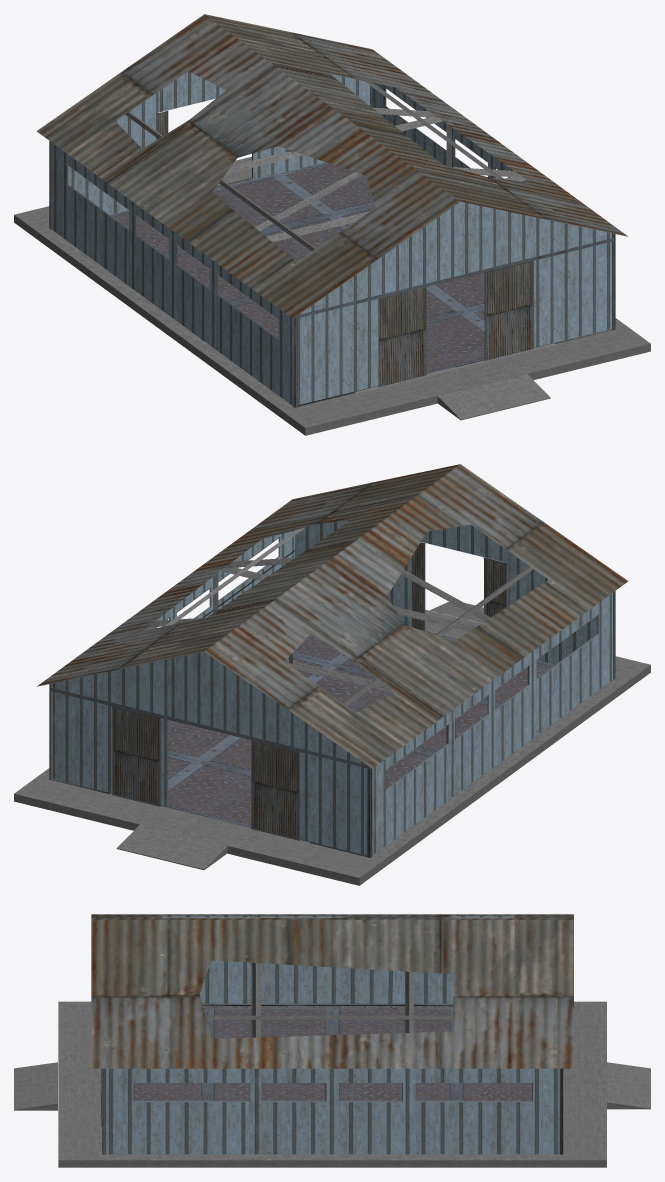
The model's file is Building_Ck01_2048_lod2.glb.
3 views of the same model, one above another, from view 1: azimuth 30°, elevation 25°; view 2: azimuth 150°, elevation 25°; view 3: azimuth 270°, elevation 25° (orthographic). The views are drawn at different scales.
Visible parts, largest first — view 1: xiutz_ck_01_lod2; view 2: xiutz_ck_01_lod2; view 3: xiutz_ck_01_lod2.
Boxes of the visible parts, <box> form: xiutz_ck_01_lod2: <box>14,14,650,435</box>; xiutz_ck_01_lod2: <box>14,464,650,885</box>; xiutz_ck_01_lod2: <box>14,914,650,1167</box>.
Size of the model in its own units: 18.24 by 9.03 by 30.93.
1 material, 1 textured.
